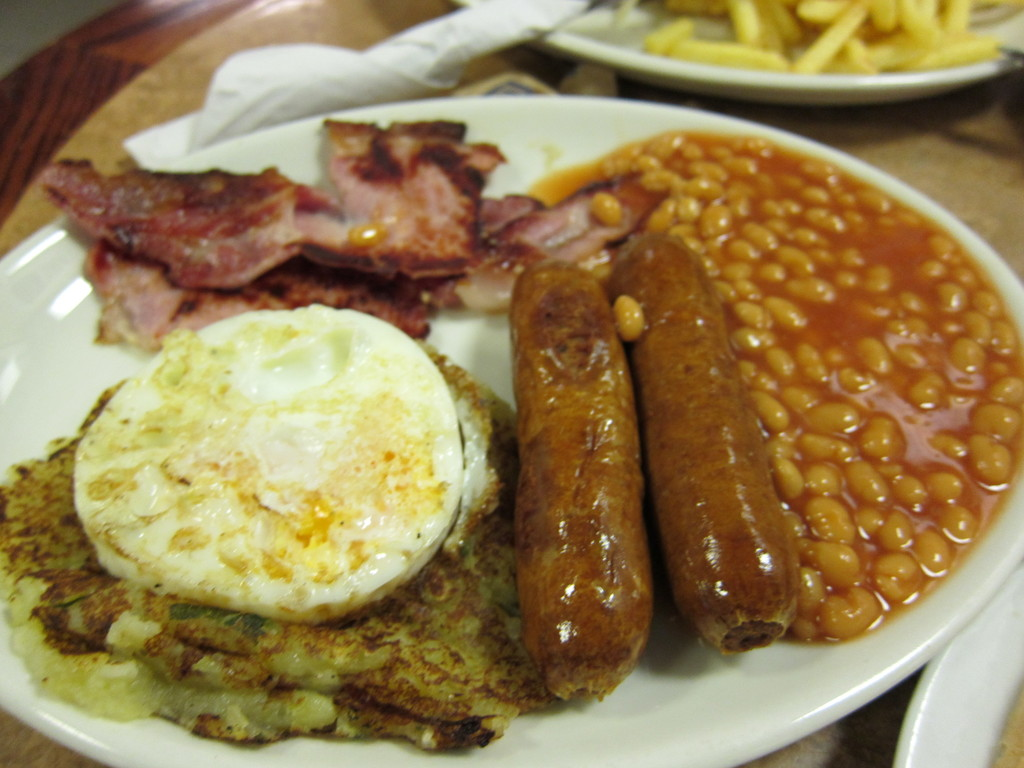French fries: (785, 0, 874, 78), (670, 37, 787, 86), (643, 9, 696, 57), (757, 0, 800, 58), (872, 25, 912, 74), (912, 44, 1000, 63), (798, 0, 849, 28), (935, 0, 970, 37), (730, 0, 758, 46), (842, 21, 866, 72), (865, 0, 893, 35), (902, 0, 920, 39)
